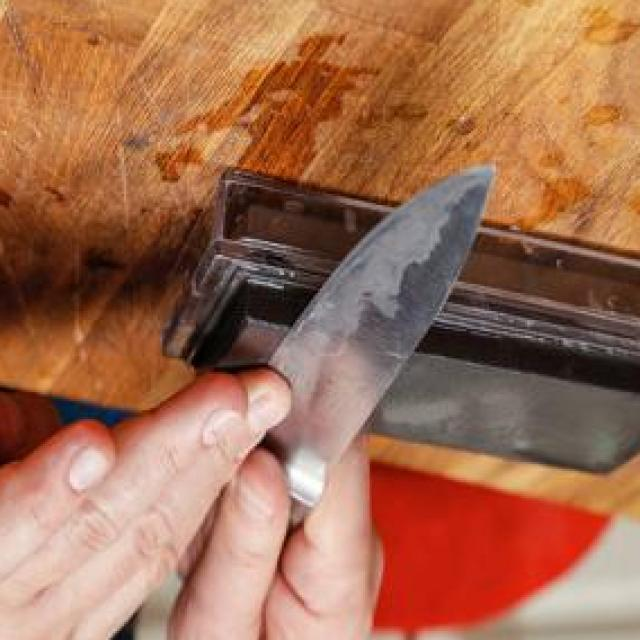knife: (198, 156, 501, 538)
